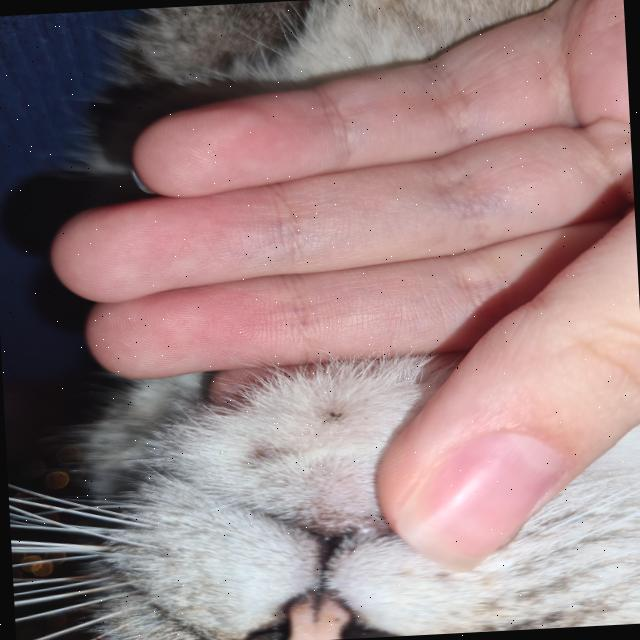cat-acne: (192, 422, 332, 477), (280, 378, 384, 445)
